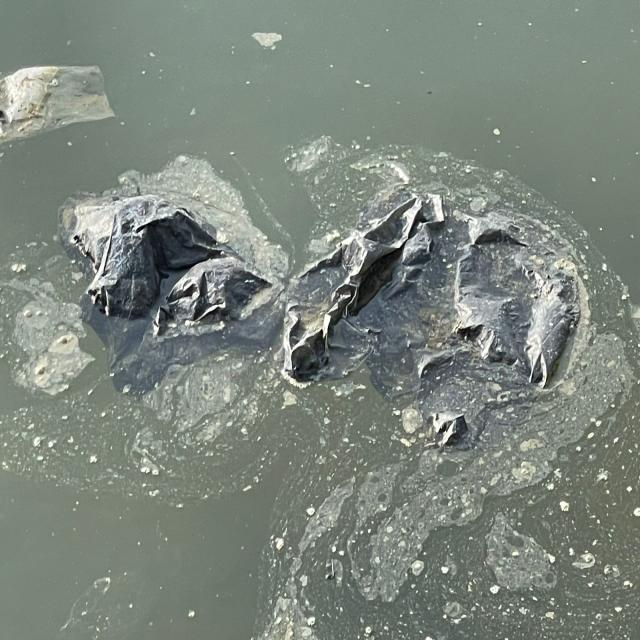Kantong Plastik: (58, 155, 591, 458), (1, 57, 117, 153)
